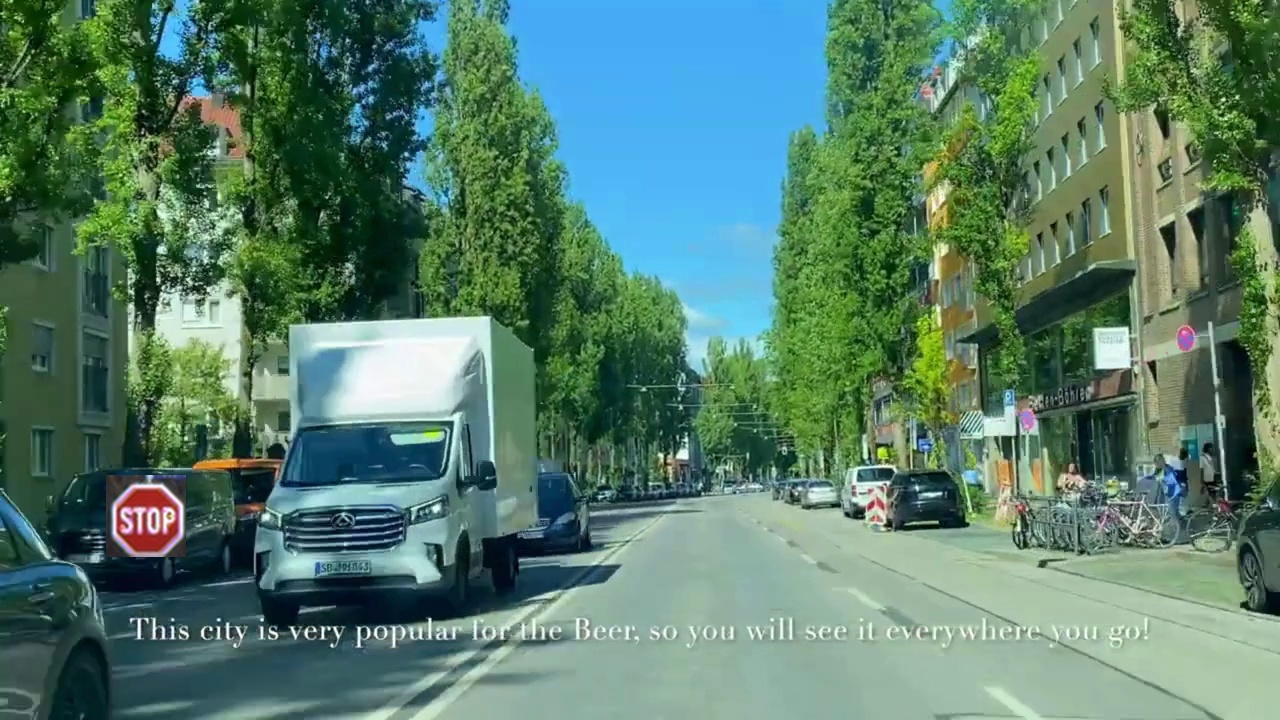Stop: (106, 475, 186, 557)
